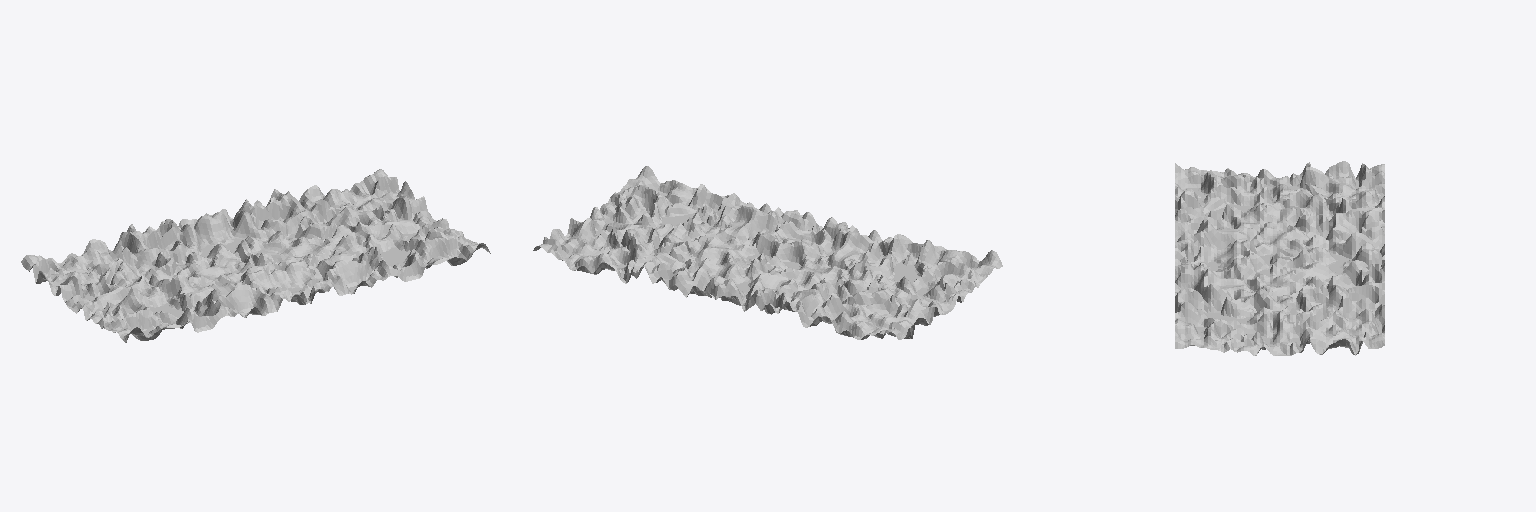
Rendered from terrain.obj.
The picture shows the model from 3 angles: view 1: azimuth 30°, elevation 25°; view 2: azimuth 150°, elevation 25°; view 3: azimuth 270°, elevation 25°; orthographic projection.
Parts seen in each view (by area): view 1: Plane; view 2: Plane; view 3: Plane.
Boxes of the visible parts, x1=… form: Plane: x1=21, y1=169, x2=490, y2=342; Plane: x1=533, y1=166, x2=1002, y2=339; Plane: x1=1175, y1=161, x2=1384, y2=355.
Bounding box in the file's own units: 4 × 0.2326 × 2.